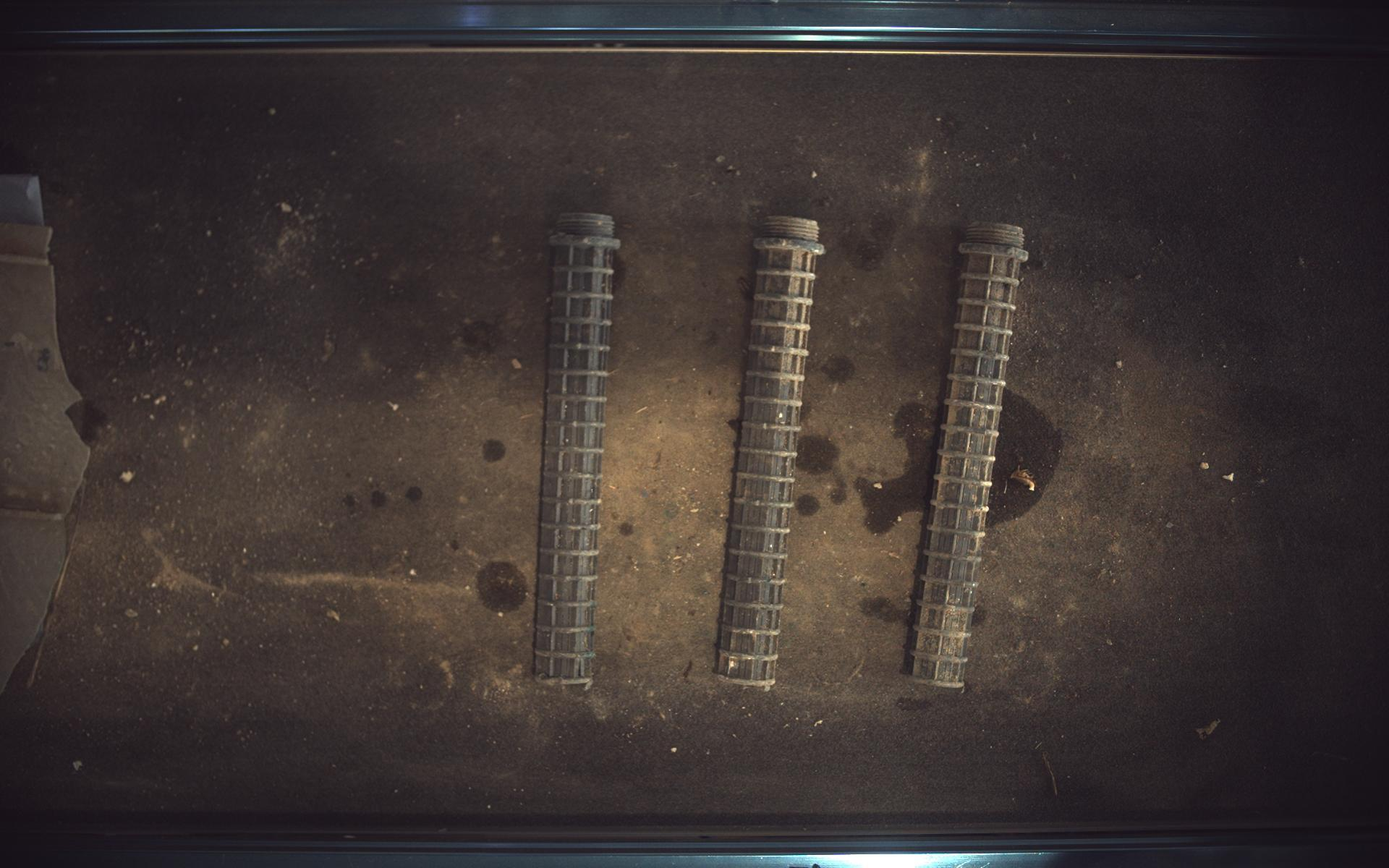plastic: (911, 223, 1030, 690), (716, 216, 825, 689), (534, 213, 621, 688)
